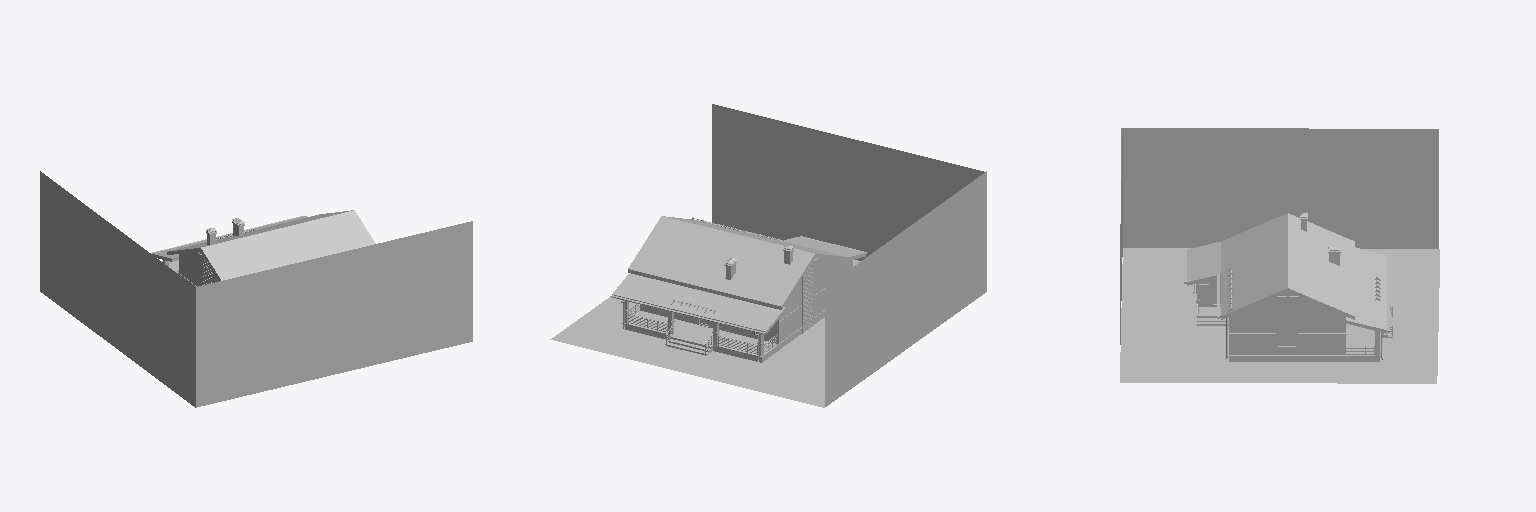
File: CottageWalls.obj
The picture shows the model from 3 angles: view 1: azimuth 30°, elevation 25°; view 2: azimuth 150°, elevation 25°; view 3: azimuth 270°, elevation 25°; orthographic projection.
Parts seen in each view (by area): view 1: Plane.001, Plane, Cottage_Free; view 2: Plane.001, Cottage_Free, Plane, Plane.002; view 3: Plane, Cottage_Free, Plane.002.
Boxes of the visible parts, x1,y1,x2,y2 form: Plane.001: [196, 221, 472, 407]; Plane: [40, 171, 195, 407]; Cottage_Free: [151, 210, 375, 286]; Plane.001: [712, 104, 984, 260]; Cottage_Free: [611, 216, 866, 362]; Plane: [825, 171, 986, 406]; Plane.002: [550, 260, 860, 407]; Plane: [1121, 128, 1438, 248]; Cottage_Free: [1184, 213, 1392, 361]; Plane.002: [1120, 248, 1439, 383].
Size of the model in its own units: 22.48 by 9.32 by 22.44.